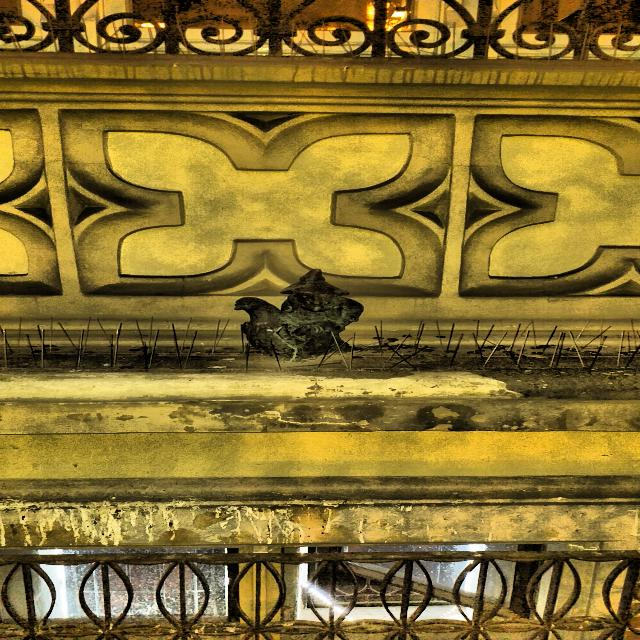Golebnik: (234, 269, 364, 363)
